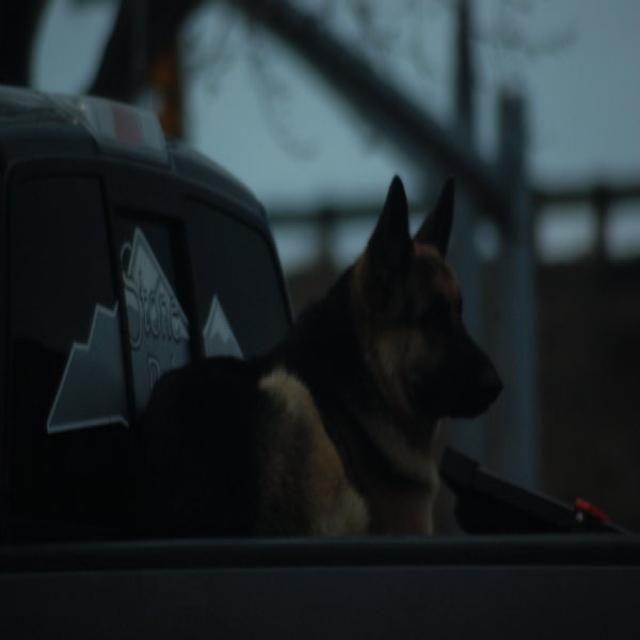Dog: (128, 147, 536, 614)
